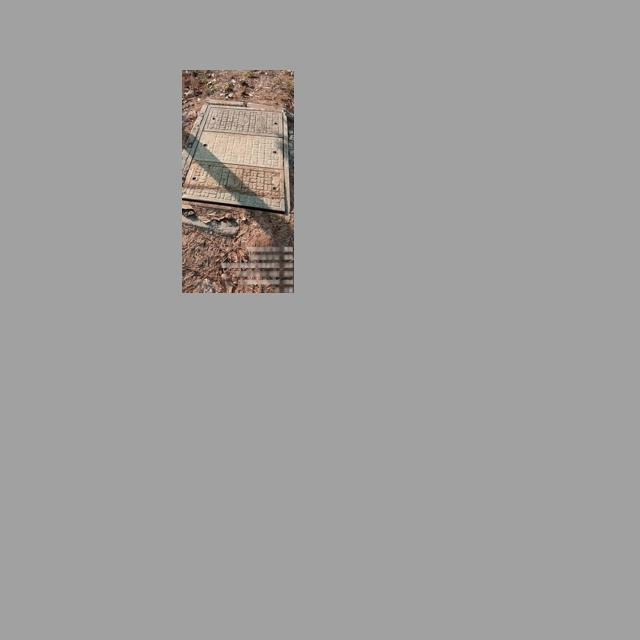circle: (182, 100, 293, 218)
